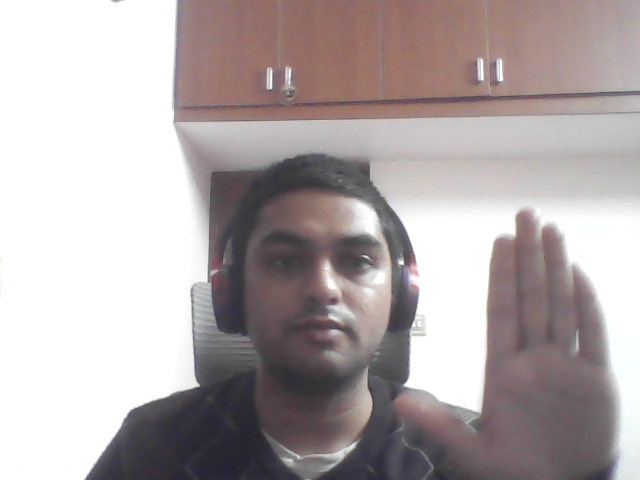Hello: (386, 208, 631, 480)
